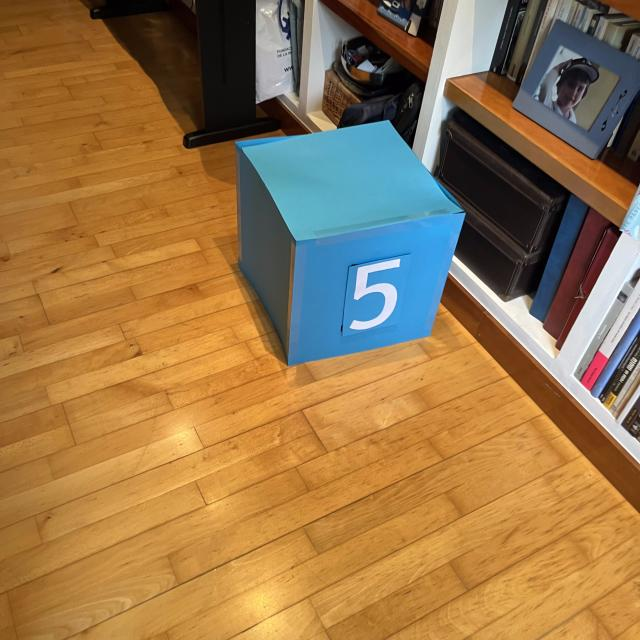box: (230, 118, 468, 367)
